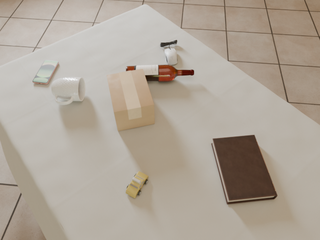book: (211, 135, 277, 204)
bottle: (126, 65, 194, 82)
box: (107, 69, 154, 131)
cup: (51, 77, 85, 105)
mouse: (165, 48, 178, 65)
phone: (33, 60, 59, 84)
toy_car: (126, 171, 148, 198)
